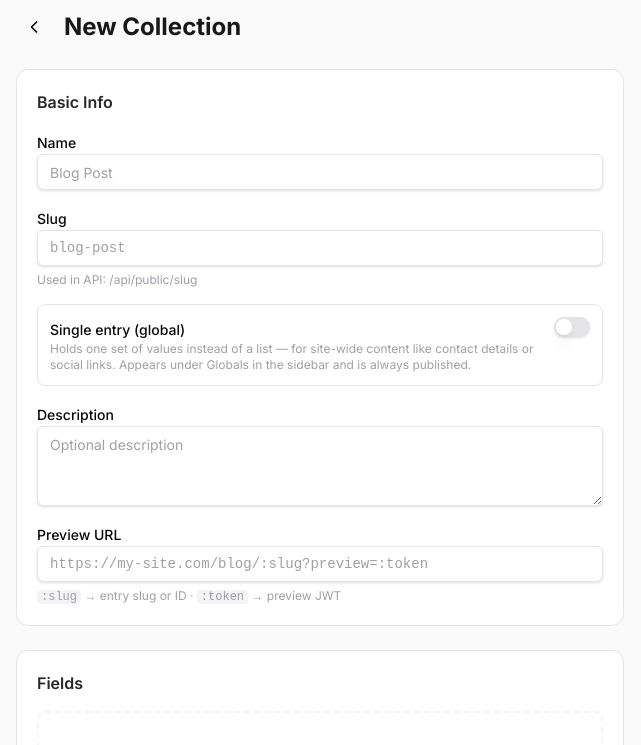
Test: ContentTypeForm slug derivation › tracks the name until the slug is edited by hand
The width and height of the screenshot is (641, 745).
In the field with placeholder "Blog Post": (320, 172) [37,154,603,190], type "My Post"
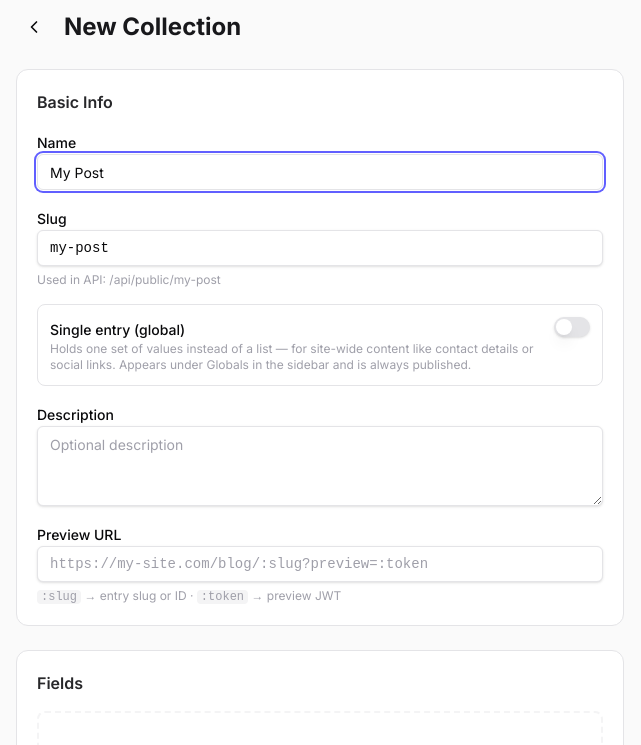
expect the 2nd field with placeholder "blog-post" holds "my-post": met, box [37,230,603,266]
